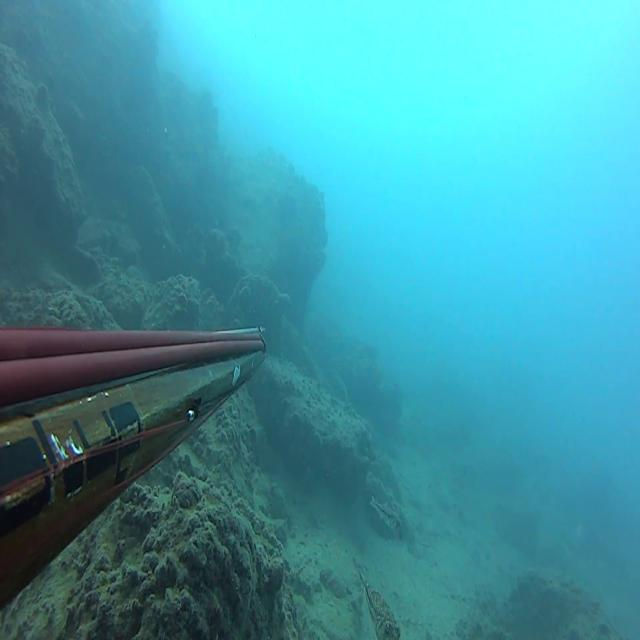Balon Baligi: (359, 569, 401, 640), (370, 496, 403, 540)
